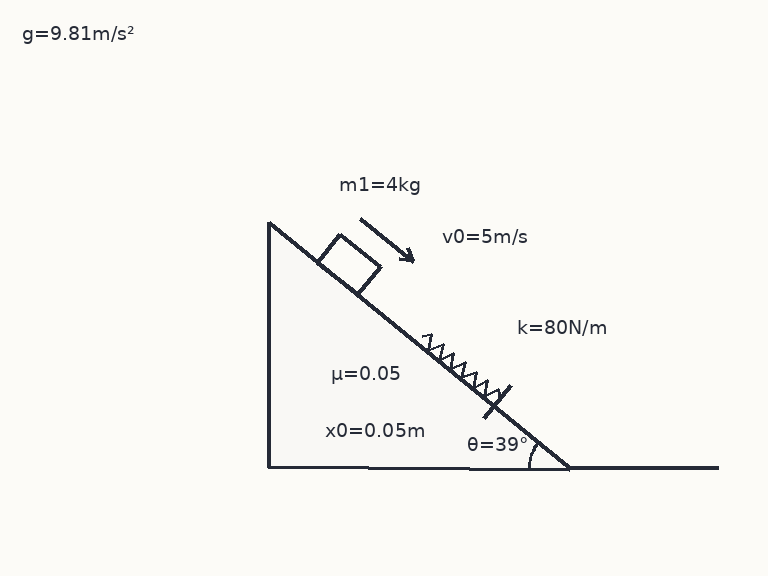block: (315, 232, 382, 297)
ramp: (266, 221, 571, 469)
spring: (419, 333, 501, 401)
